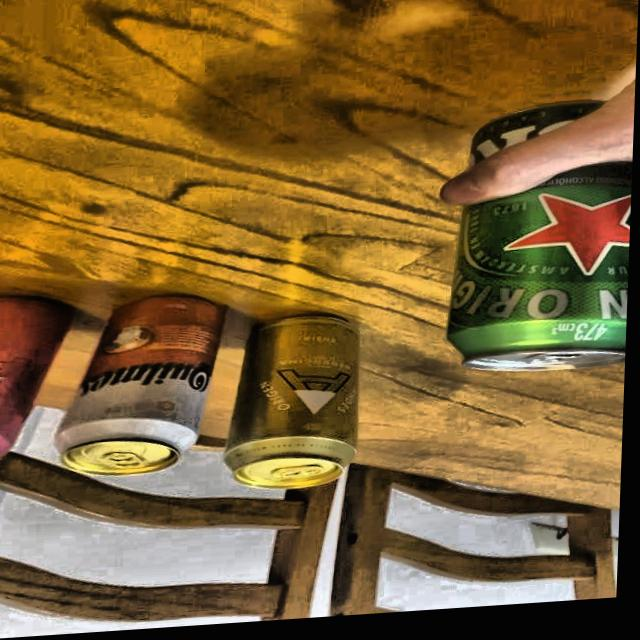can: (439, 108, 633, 392), (54, 284, 234, 486), (222, 311, 375, 512), (0, 280, 81, 490)
